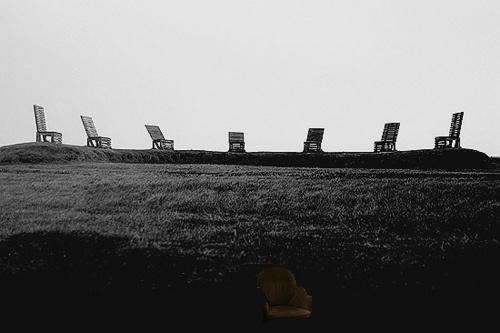tampered: (257, 268, 312, 324)
